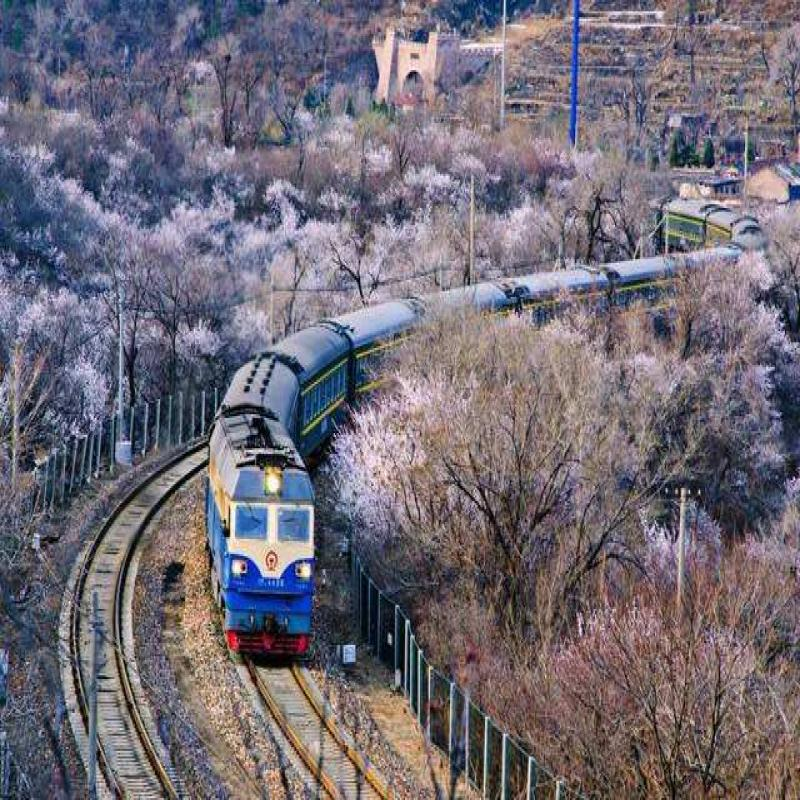train: (193, 334, 309, 695)
